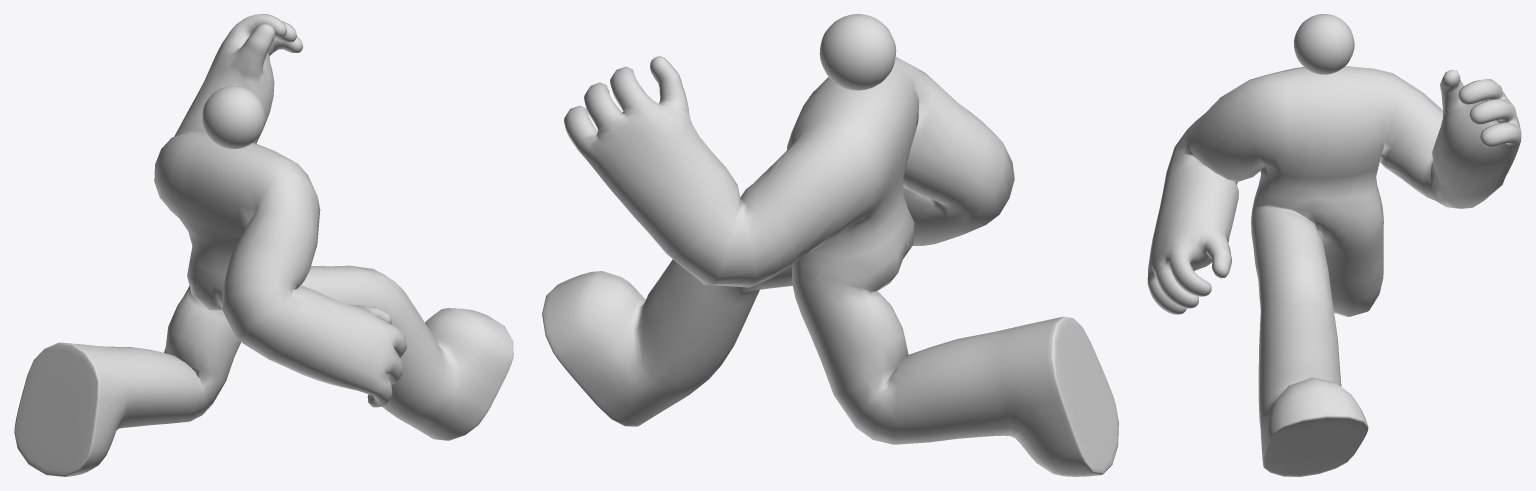
The model's file is man1.gltf.
3 renders of one model, left to right at view 1: azimuth 30°, elevation 25°; view 2: azimuth 150°, elevation 25°; view 3: azimuth 270°, elevation 25°, orthographic. The views are drawn at different scales.
Visible parts, largest first — view 1: man1; view 2: man1; view 3: man1.
Part boxes in pixels (x1,y1,x2,y2): man1: (14, 14, 513, 476); man1: (542, 14, 1118, 476); man1: (1147, 14, 1521, 476).
Size of the model in its own units: 34.33 by 27.29 by 24.87.
1 material, 1 textured.
